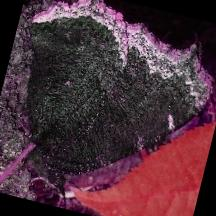butterfly: (28, 0, 212, 174)
